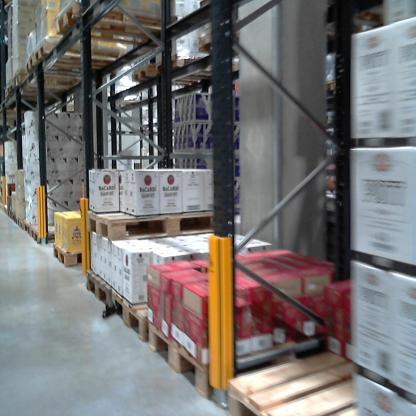pallet: (146, 305, 352, 403), (228, 348, 393, 416), (83, 202, 237, 250), (52, 1, 182, 53), (198, 18, 266, 68), (111, 285, 162, 343), (24, 50, 105, 82), (35, 39, 142, 63), (130, 63, 213, 93), (153, 58, 237, 84), (9, 71, 95, 91), (83, 265, 114, 316), (6, 80, 62, 100), (50, 242, 88, 270), (30, 227, 59, 246), (23, 218, 39, 236), (323, 79, 339, 94), (18, 216, 25, 231)
